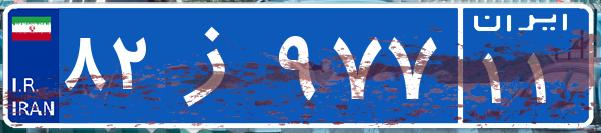1: (475, 38, 525, 113), (525, 38, 570, 115)
2: (110, 28, 158, 105)
7: (385, 28, 445, 110), (330, 28, 385, 110)
8: (57, 26, 110, 107)
9: (273, 28, 330, 110)
ز: (158, 15, 273, 115)
